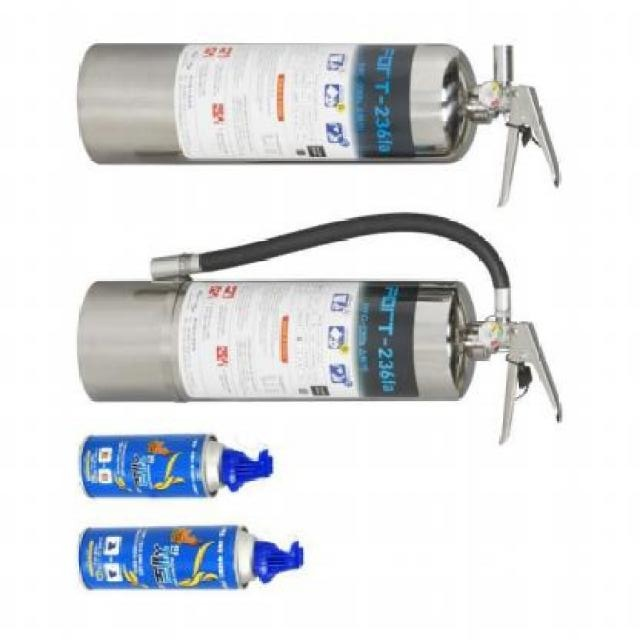fire extinguisher: (75, 212, 563, 445), (75, 42, 563, 207)
